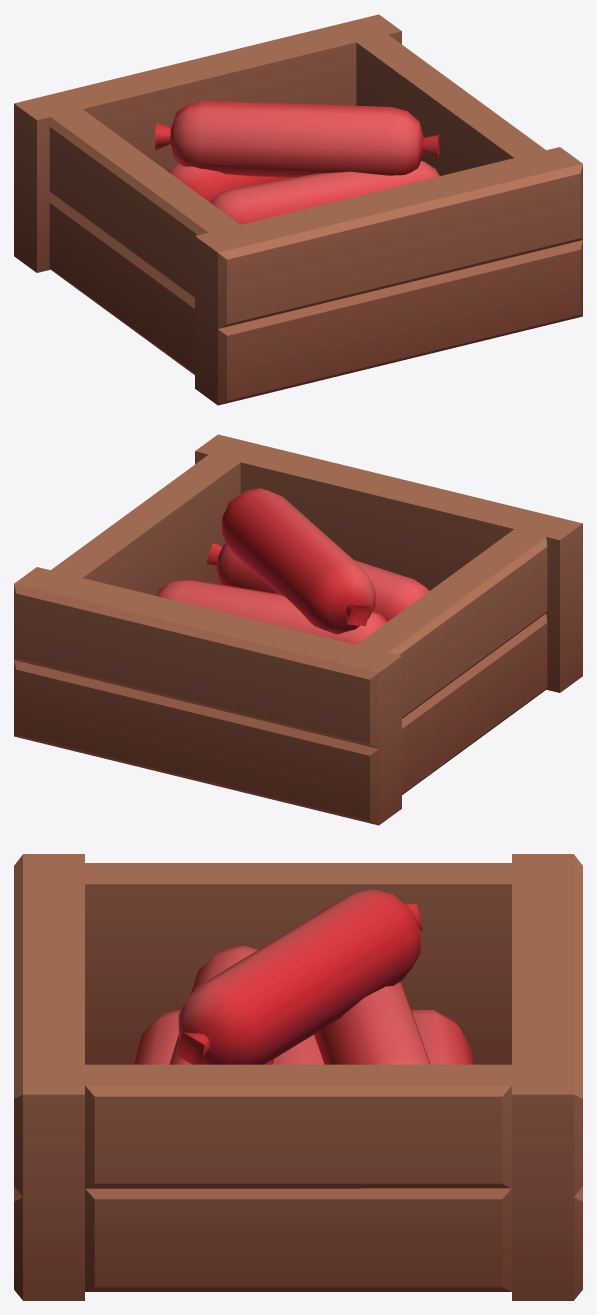
The model's file is pep_couter.glb.
3 renders of one model, top to bottom at view 1: azimuth 30°, elevation 25°; view 2: azimuth 150°, elevation 25°; view 3: azimuth 270°, elevation 25°, orthographic. The views are drawn at different scales.
Visible parts, largest first — view 1: crate_pepperoni; view 2: crate_pepperoni; view 3: crate_pepperoni.
Boxes of the visible parts, box(x1,y1,x2,y2) form: crate_pepperoni: box(14, 14, 582, 405); crate_pepperoni: box(14, 434, 582, 825); crate_pepperoni: box(14, 854, 582, 1300).
Size of the model in its own units: 2 by 0.9352 by 2.
Materials: 1 (1 with a texture image).
